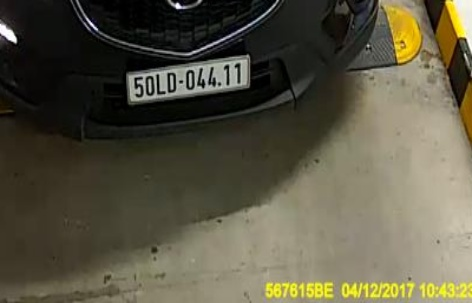plate: (121, 55, 257, 103)
